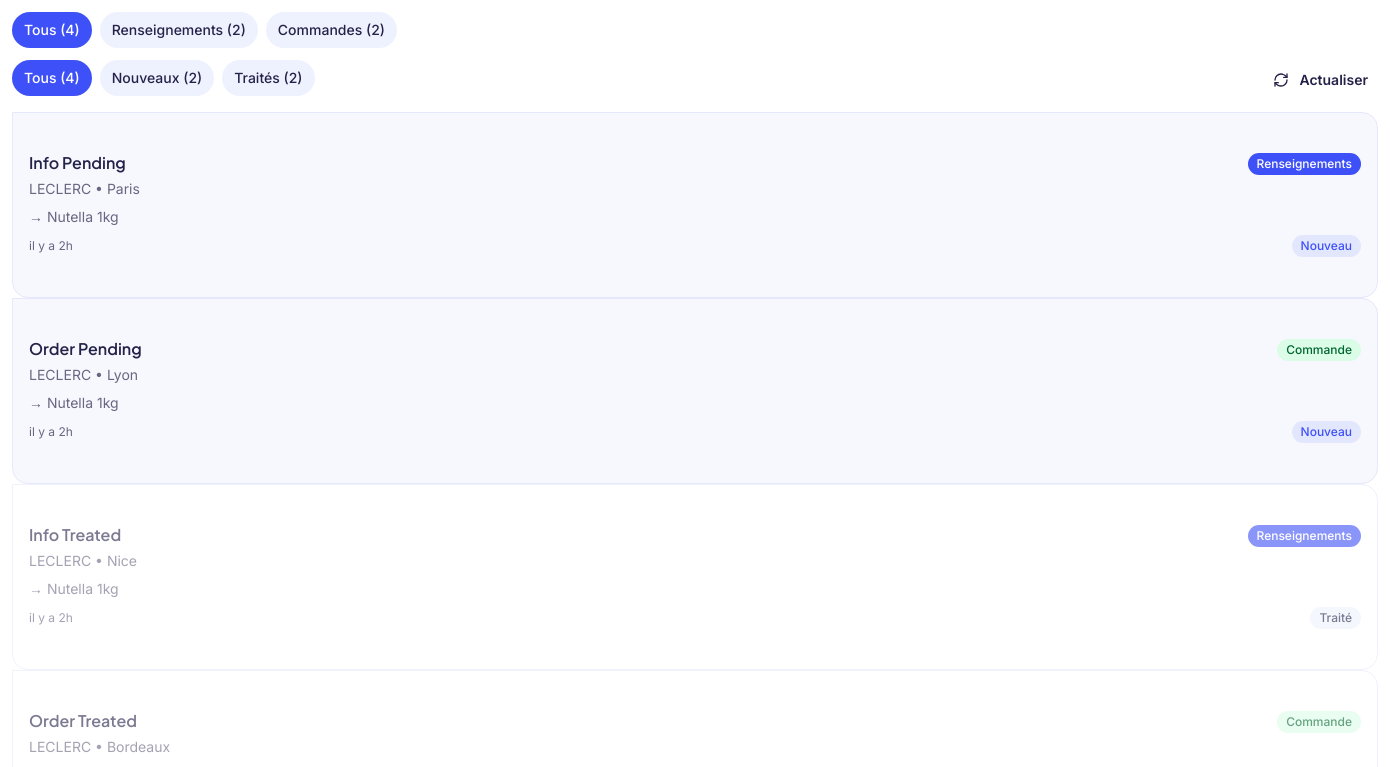
it: SupplierRequestList › filters by both type and status (AND logic)
The image size is (1390, 767).
Click the radio button "Commandes (2)". click: click(331, 30)
box: [266,12,397,48]
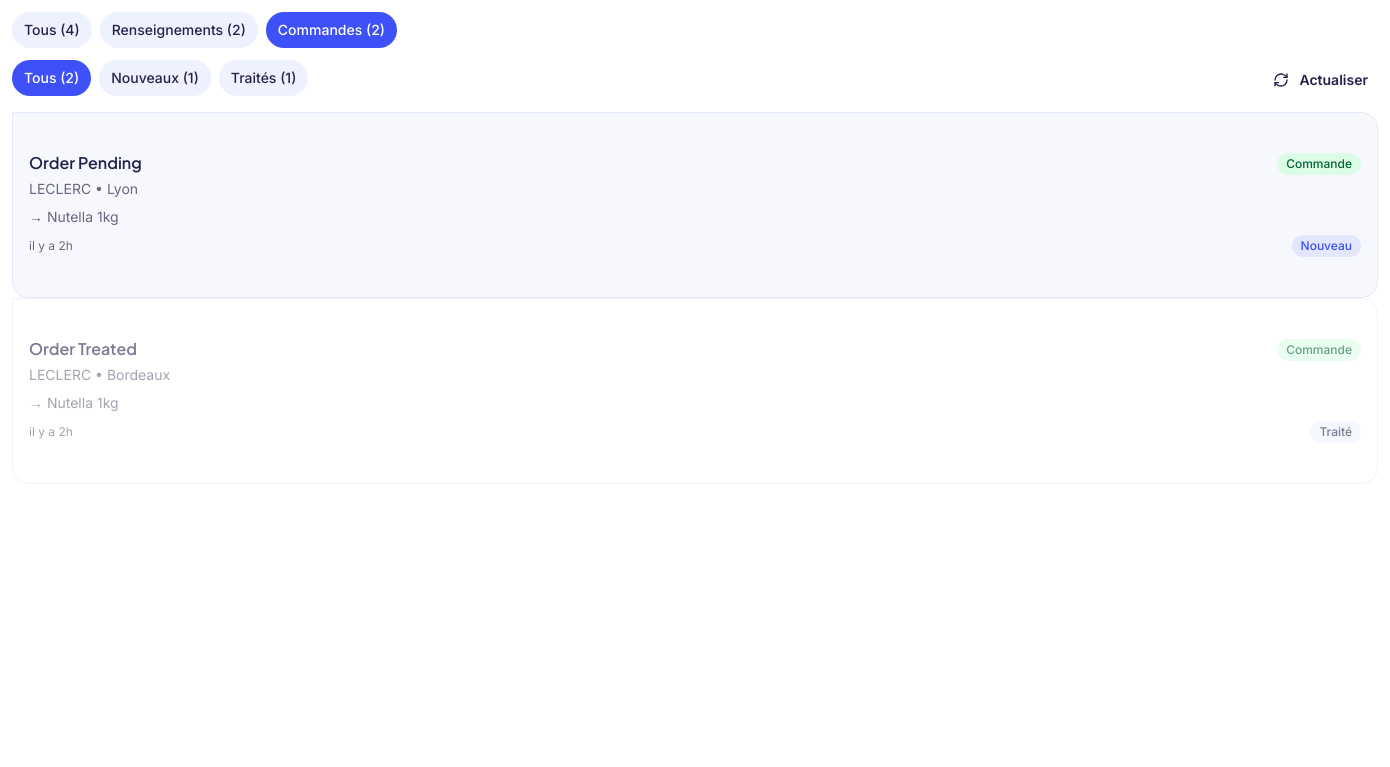
Click the radio button "Nouveaux (1)". click: click(155, 78)
box: [99,60,211,96]
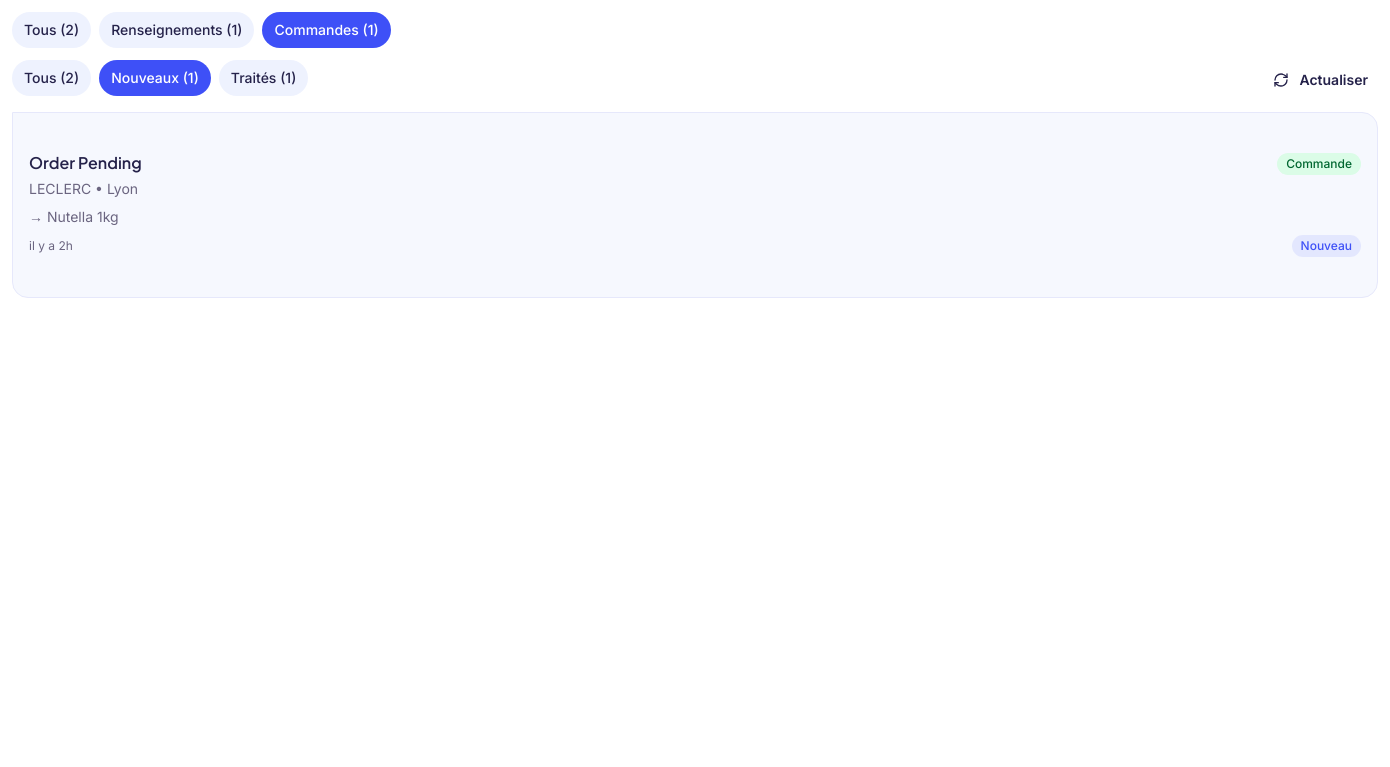
Expected: the heading "Order Pending" is shown, [29,153,142,173]
Expected: the link "Order Treated" is gone
